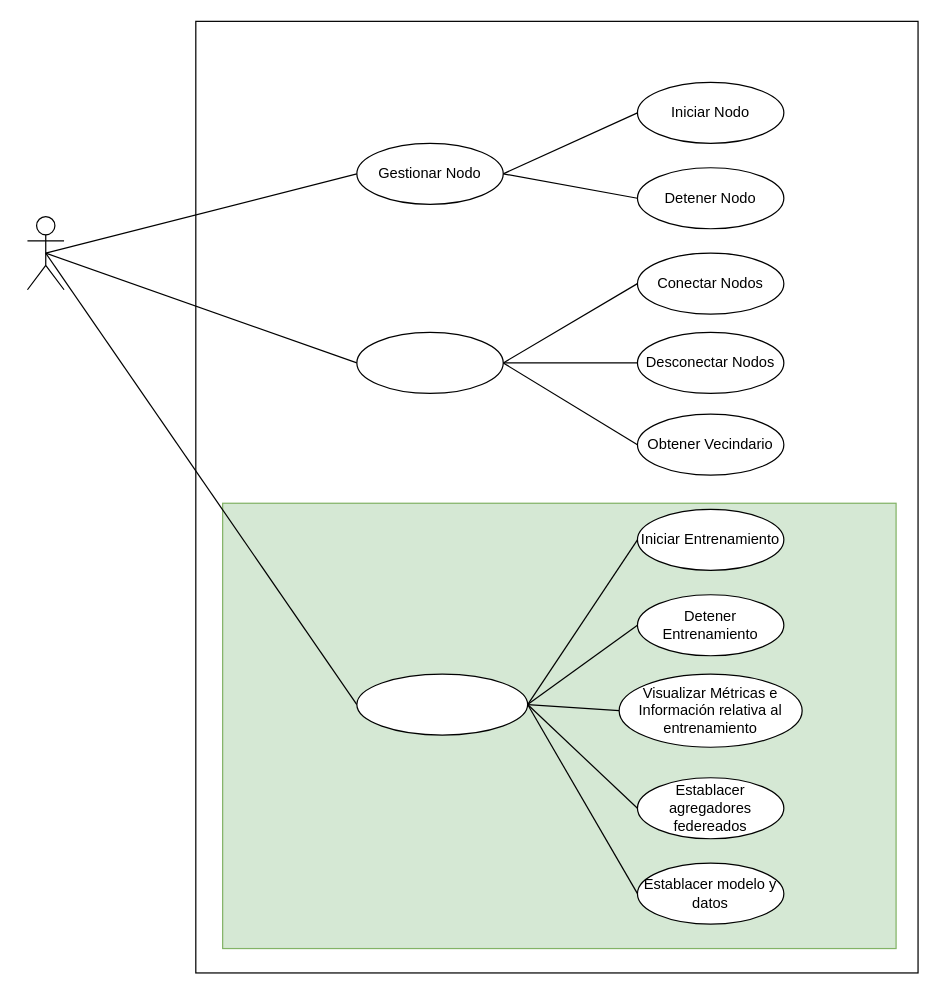
Image size: 939x994. Some labels were removed from this diagram. Each missing label, with the centre of its shape:
"Gestionar Aprendizaje" goes at (x=442, y=704).
"Gestionar Vecincario" goes at (x=429, y=362).
"Usuario" goes at (x=45, y=252).
